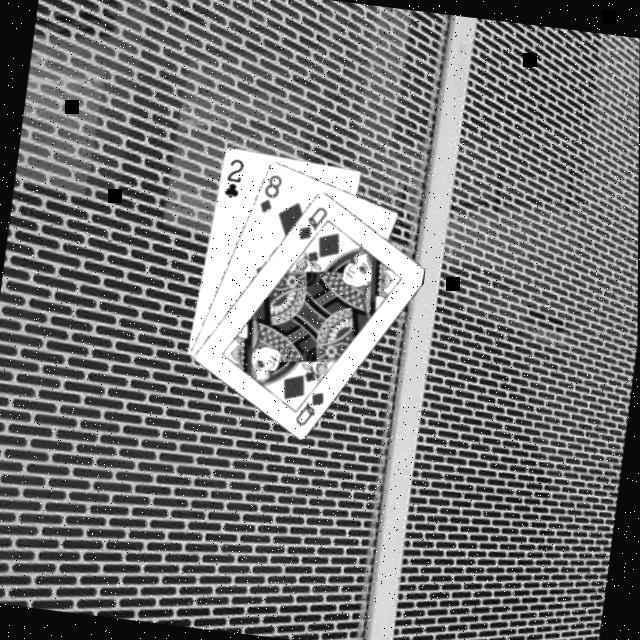2C: (221, 155, 247, 203)
8D: (256, 170, 286, 219)
QD: (291, 385, 328, 432), (294, 201, 331, 246)
